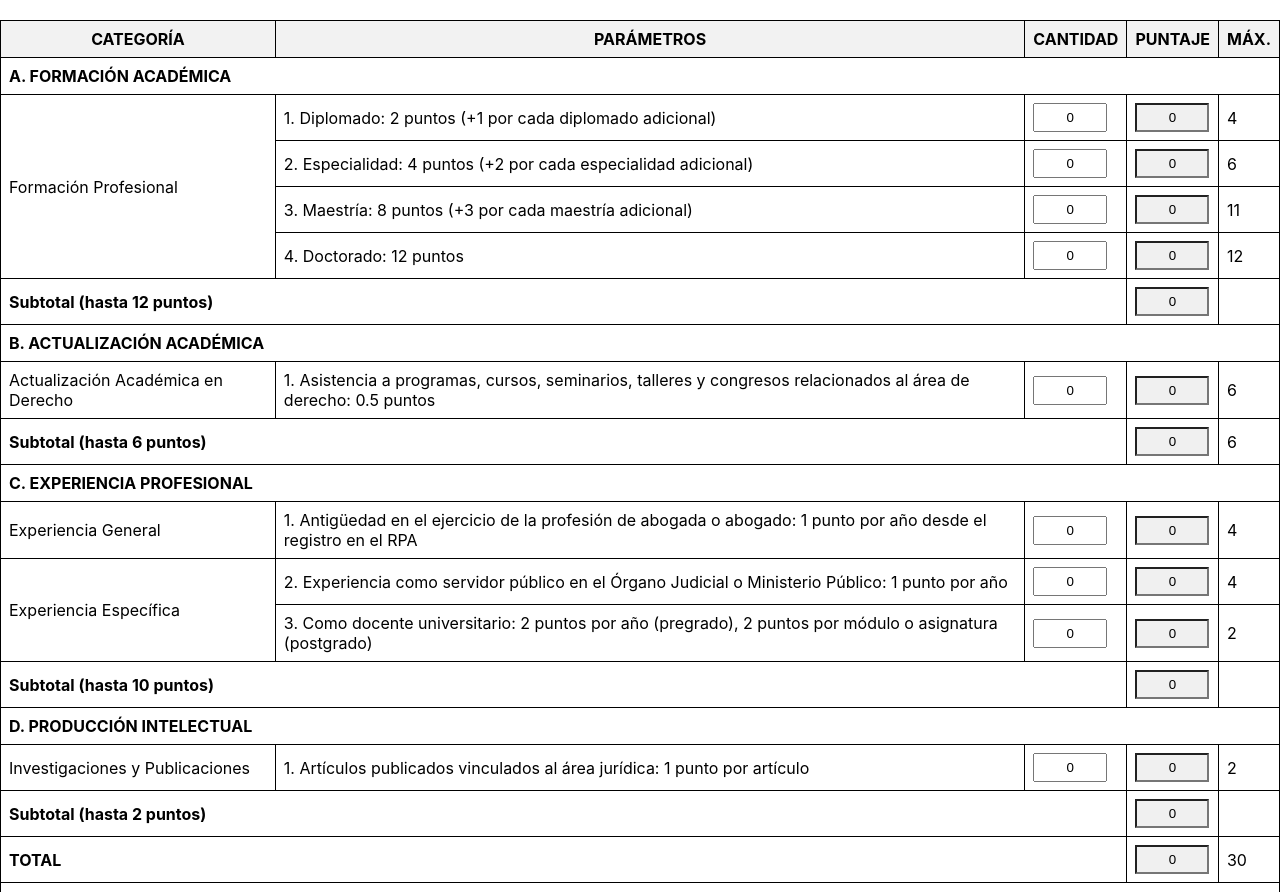
Test case: Cantidad de Especialidad › debería mostrar 4 puntos cuando se ingrese 1
Replace the text in the field with test id "especialidad-quantity" with "1" at (1070, 164), box [1033,149,1107,178]
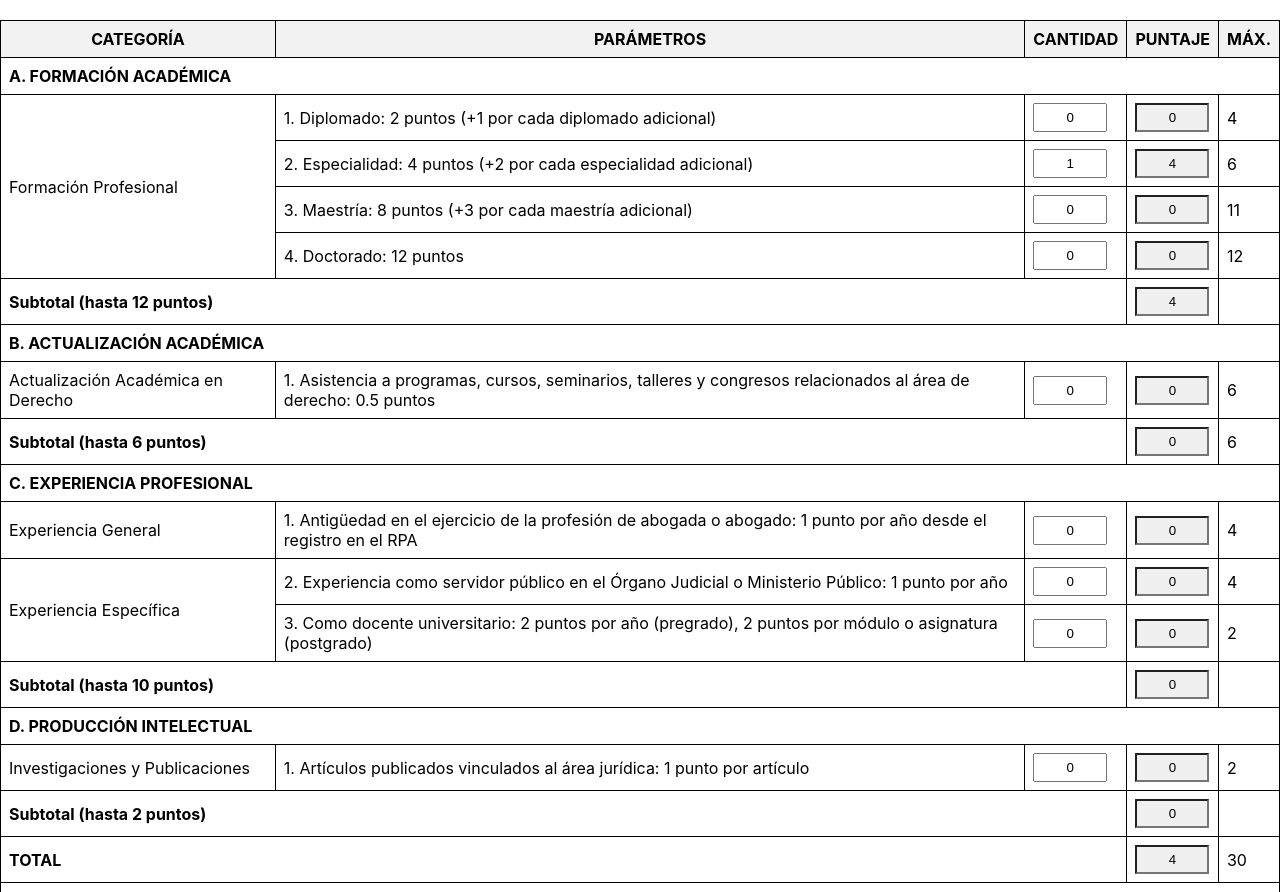
Now the field with test id "especialidad-score" holds "4", box [1135,149,1209,178]
